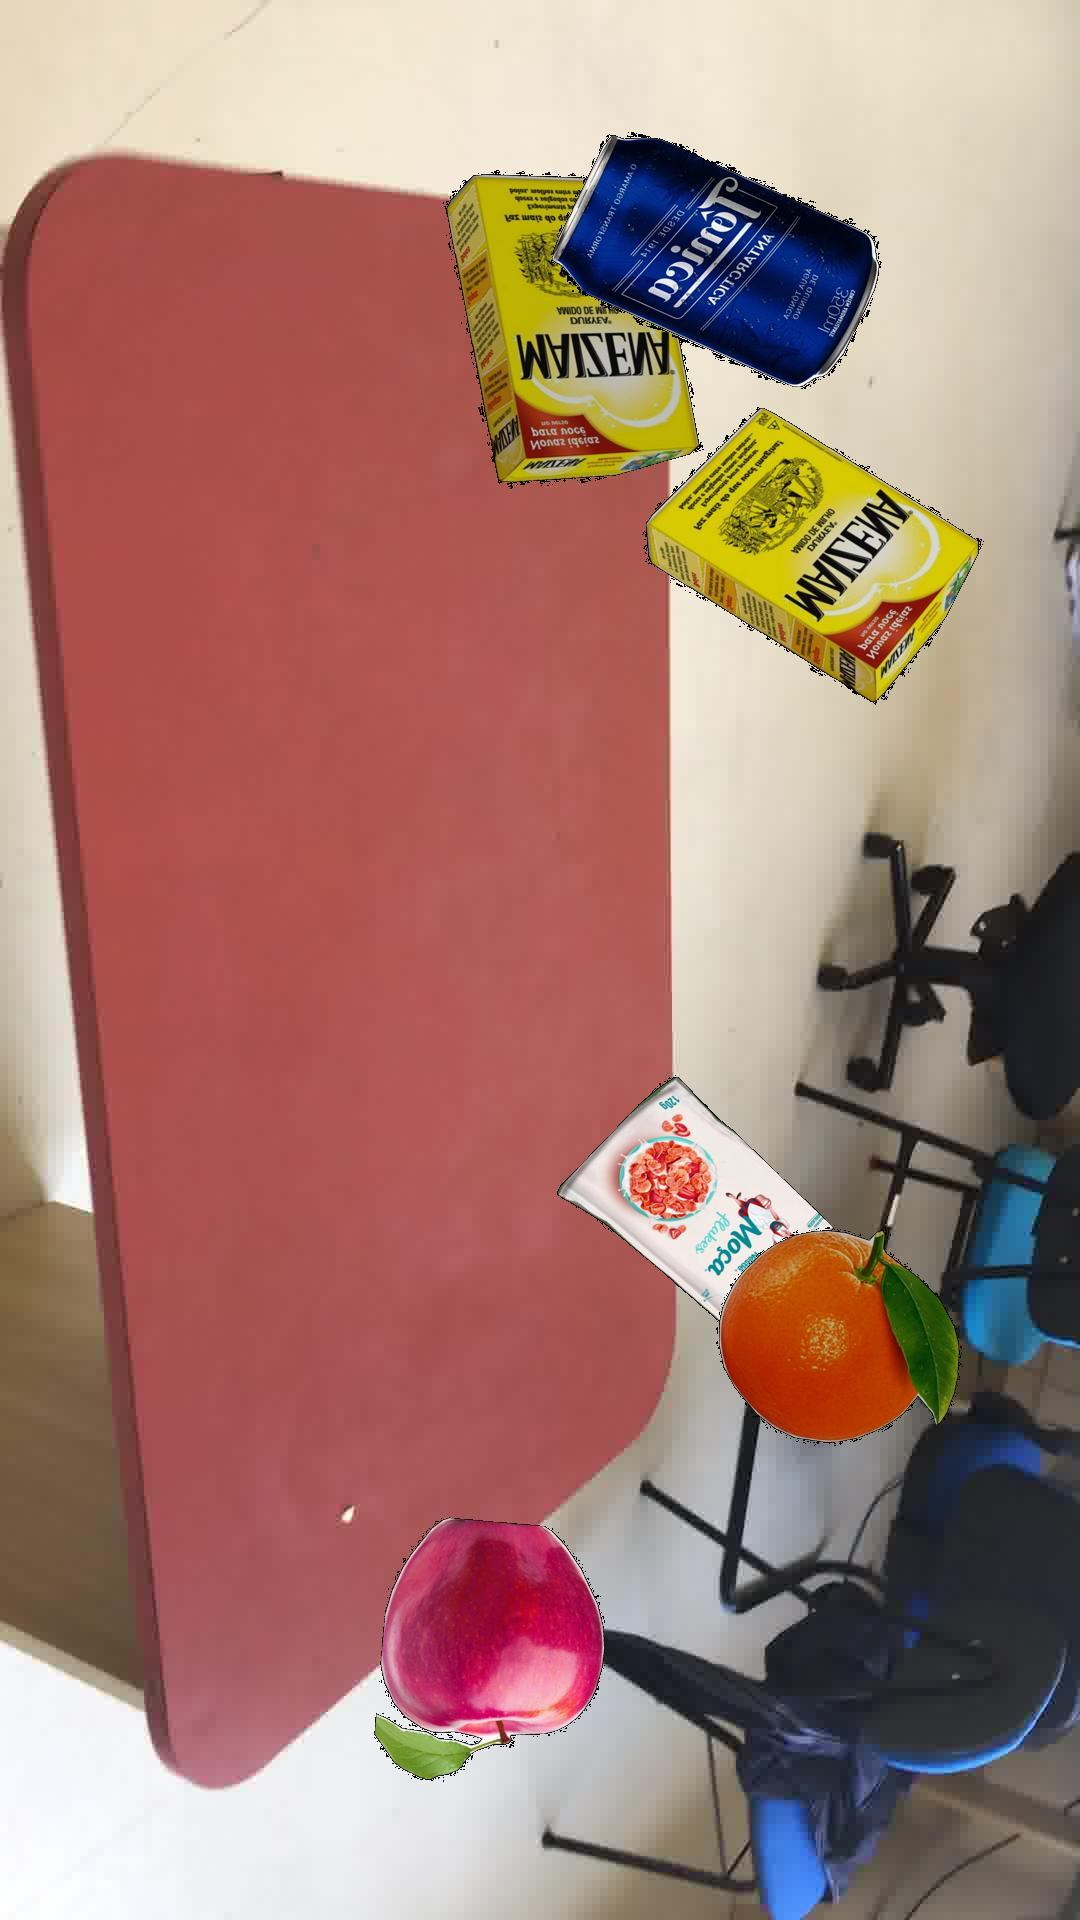apple: (372, 1515, 604, 1779)
corn flakes: (555, 1076, 832, 1320)
orange: (716, 1228, 960, 1444)
tonic: (550, 131, 881, 385)
